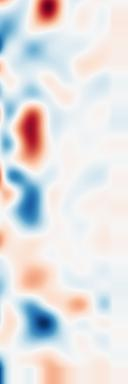filament: (12, 101, 57, 175)
